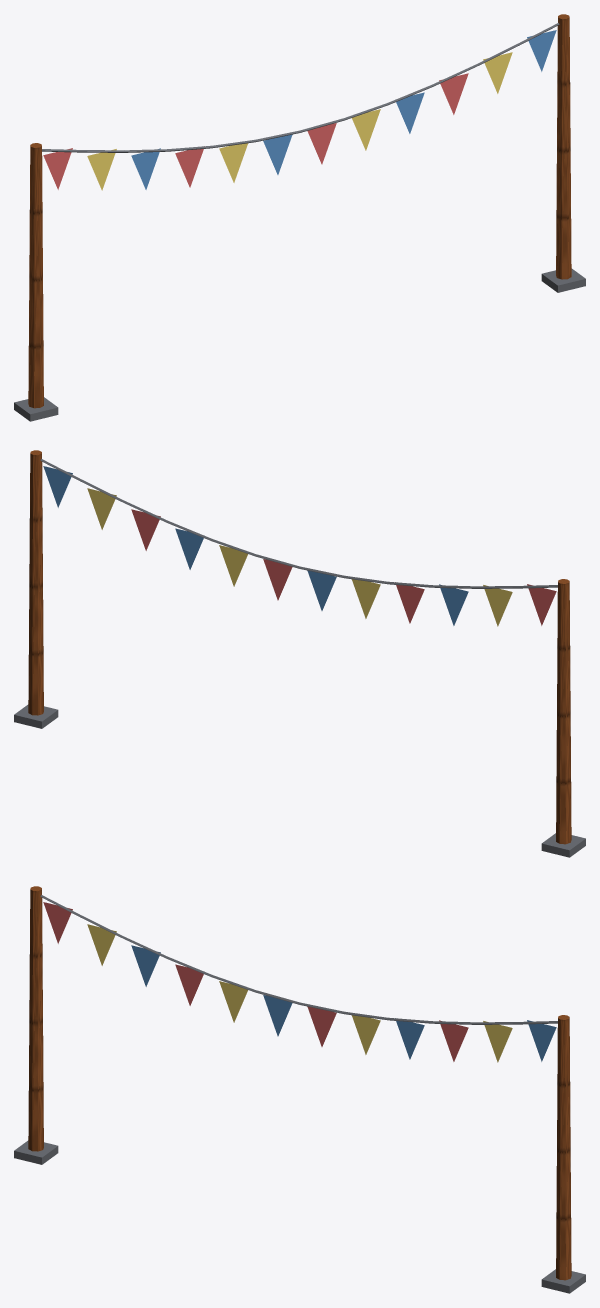
The model's file is travelling-circus-and-big-top-bunting-run-3d3d4d12__36272.glb.
3 views of the same model, one above another, from view 1: azimuth 30°, elevation 25°; view 2: azimuth 150°, elevation 25°; view 3: azimuth 330°, elevation 25° (orthographic).
Visible parts, largest first — view 1: bunting-run-timber, bunting-run-charcoal, bunting-run-azure, bunting-run-gold, bunting-run-stripe; view 2: bunting-run-timber, bunting-run-charcoal, bunting-run-azure, bunting-run-gold, bunting-run-stripe; view 3: bunting-run-timber, bunting-run-charcoal, bunting-run-stripe, bunting-run-gold, bunting-run-azure.
Boxes of the visible parts, x1=… form: bunting-run-timber: x1=28, y1=14, x2=571, y2=408; bunting-run-charcoal: x1=14, y1=23, x2=585, y2=421; bunting-run-azure: x1=131, y1=30, x2=556, y2=189; bunting-run-gold: x1=87, y1=52, x2=512, y2=190; bunting-run-stripe: x1=43, y1=73, x2=468, y2=189; bunting-run-timber: x1=28, y1=450, x2=571, y2=844; bunting-run-charcoal: x1=14, y1=459, x2=585, y2=857; bunting-run-azure: x1=43, y1=466, x2=468, y2=625; bunting-run-gold: x1=87, y1=488, x2=512, y2=626; bunting-run-stripe: x1=131, y1=509, x2=556, y2=625; bunting-run-timber: x1=28, y1=886, x2=571, y2=1280; bunting-run-charcoal: x1=14, y1=895, x2=585, y2=1293; bunting-run-stripe: x1=43, y1=902, x2=468, y2=1061; bunting-run-gold: x1=87, y1=924, x2=512, y2=1062; bunting-run-azure: x1=131, y1=945, x2=556, y2=1061.
Bounding box in the file's own units: 6.32 × 2.9 × 0.3202.
5 materials, 1 textured.
